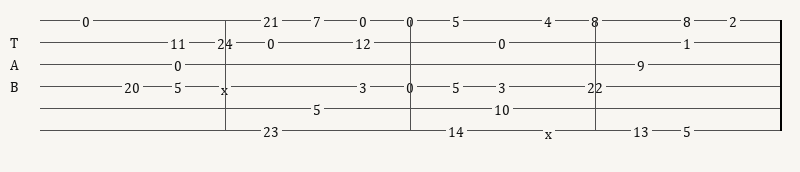0: (82, 13, 94, 27), (174, 57, 186, 71), (267, 35, 279, 49), (359, 13, 371, 27), (406, 13, 418, 27), (406, 79, 418, 93), (498, 35, 510, 49)
1: (683, 35, 695, 49)
10: (494, 101, 514, 115)
11: (170, 35, 190, 49)
12: (355, 35, 375, 49)
13: (633, 123, 653, 137)
14: (448, 123, 468, 137)
2: (729, 13, 741, 27)
20: (124, 79, 144, 93)
21: (263, 13, 283, 27)
22: (587, 79, 607, 93)
23: (263, 123, 283, 137)
24: (217, 35, 237, 49)
3: (359, 79, 371, 93), (498, 79, 510, 93)
4: (544, 13, 556, 27)
5: (174, 79, 186, 94), (313, 101, 325, 116), (452, 13, 464, 28), (452, 79, 464, 94), (683, 123, 695, 138)
7: (313, 13, 325, 27)
8: (591, 13, 603, 27), (683, 13, 695, 27)
9: (637, 57, 649, 71)
x: (221, 81, 232, 92), (545, 125, 556, 136)
